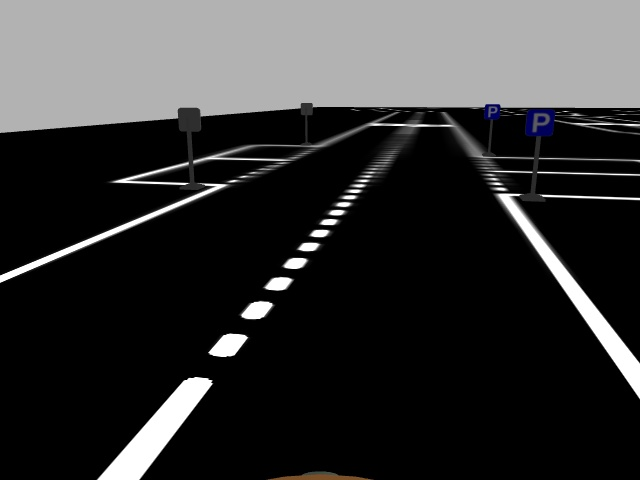parking: (525, 109, 555, 137), (484, 102, 500, 120)
